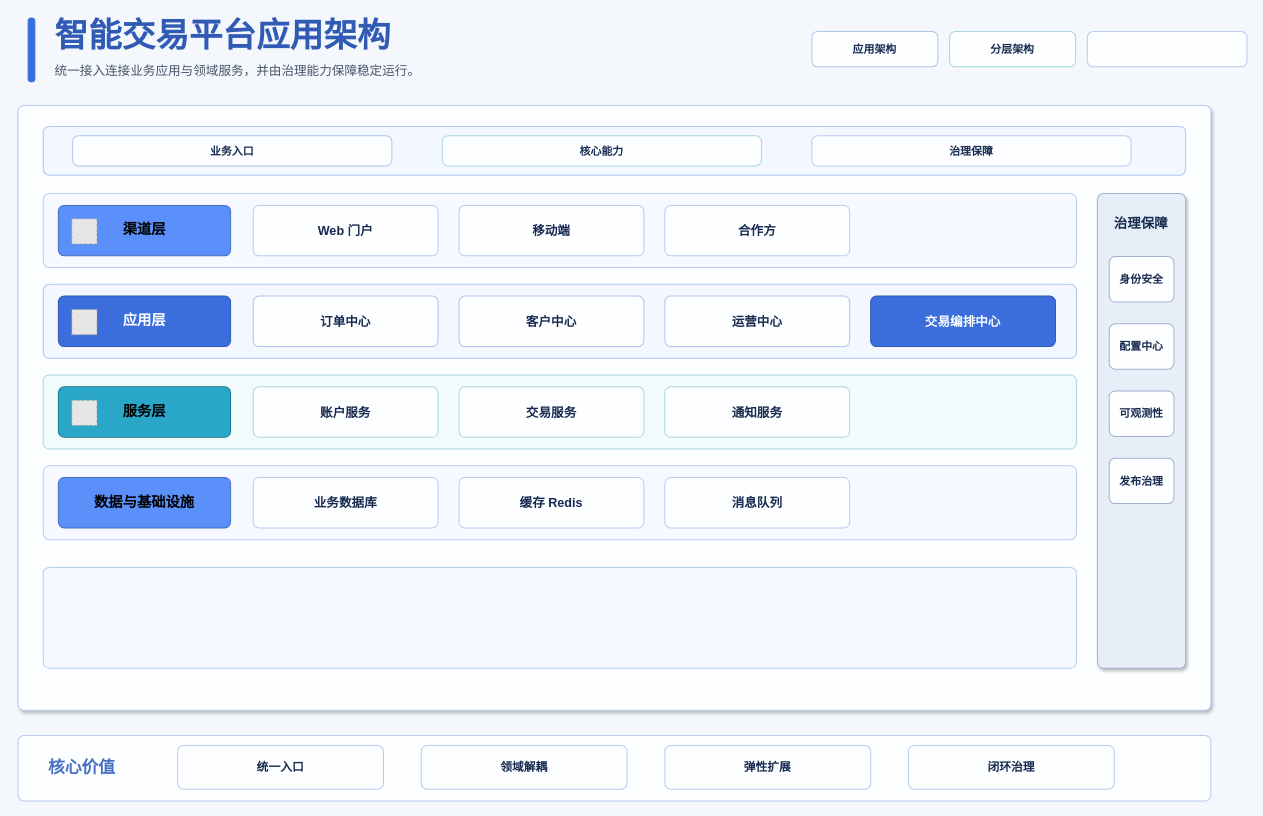
Some shapes in this 1263 by 816 pixel diagram are drawn without their labels. Grey dashed boxes stand in for pictures. Here are the shapes that lost their labels. From the top down, the centre of each, then its label:
[1166,49]: Tech Blue
[559,617]: 统一接入连接业务应用与领域服务，并由治理能力保障稳定运行。 架构能力形成统一承载、弹性扩展与闭环治理
